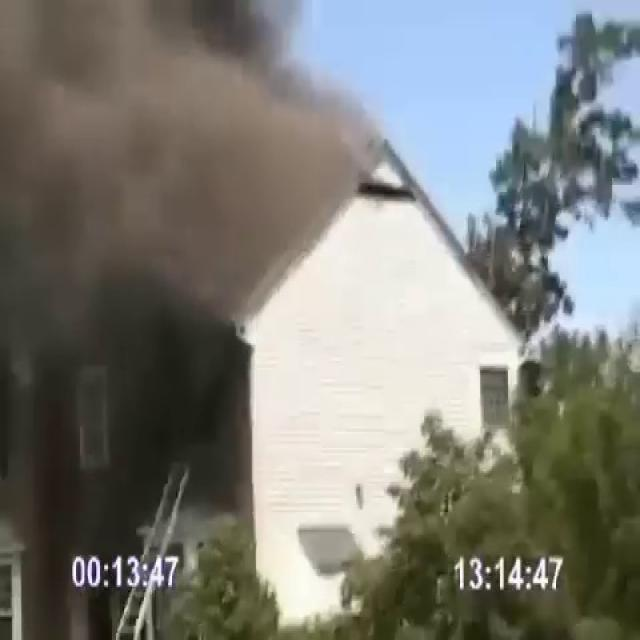Smoke: (0, 1, 379, 316)
